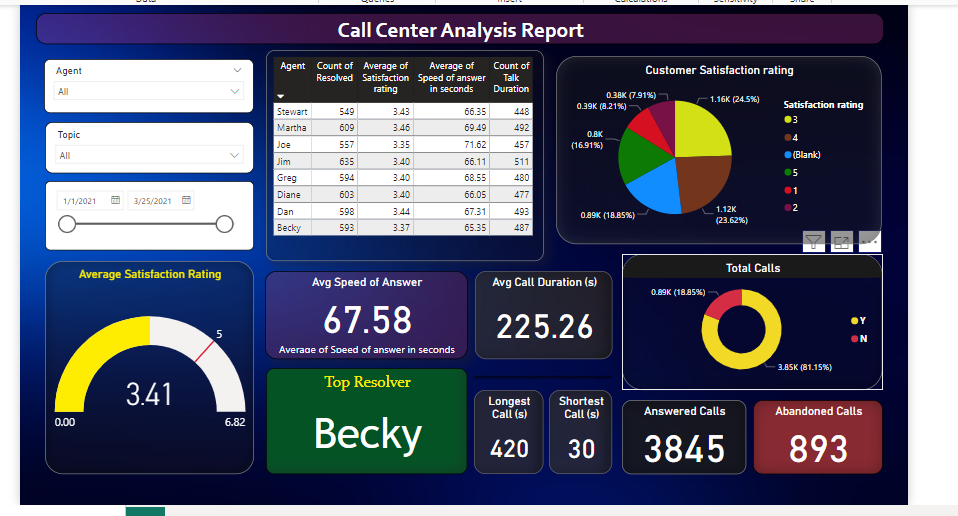

The page's visual inventory and layout, read from the dashboard file:
{"tool":"powerbi","page":{"name":"Duplicate of Page 1","canvas":[1280,720],"ordinal":0},"visuals":[{"type":"donutChart","title":"Total Calls","fields":{"Category":["Sheet1.Answered (Y/N)"],"Y":["Sheet1.Call Id"]},"box":[867.5,358.8,375.5,196.1],"z":0},{"type":"card","title":"Answered Calls","fields":{"Values":["Sheet1.Answered (Y/N)"]},"box":[866.9,568.8,178.6,106.6],"z":1000},{"type":"card","title":"Abandoned Calls","fields":{"Values":["Sheet1.Answered (Y/N)"]},"box":[1055.5,568.8,187.2,106.6],"z":2000},{"type":"card","title":"Avg Speed of Answer","fields":{"Values":["Sheet1.Speed of answer in seconds"]},"box":[352.7,382.5,291.7,126.5],"z":3000},{"type":"card","title":"Avg Call Duration (s)","fields":{"Values":["Sheet1.Total Seconds of Call"]},"box":[654.9,382.5,198,126.5],"z":4000},{"type":"pieChart","title":"Customer Satisfaction rating","fields":{"Category":["Sheet1.Satisfaction rating"],"Y":["Sheet1.Call Id"]},"box":[772.5,72.9,468.8,270.9],"z":5000},{"type":"card","title":"Longest Call (s)","fields":{"Values":["Sheet1.Total Seconds of Call"]},"box":[654.3,554.3,100,121.4],"z":6000},{"type":"tableEx","fields":{"Values":["Sheet1.Agent","Sheet1.Resolved","Sheet1.Satisfaction rating","Sheet1.Speed of answer in seconds","Sheet1.AvgTalkDuration"]},"box":[354.2,65.5,400.4,303.6],"z":7000},{"type":"textbox","title":"Call Center Analysis Report","box":[23,11.5,1221.1,44.6],"z":8000},{"type":"slicer","fields":{"Values":["Sheet1.Agent"]},"box":[35.1,77.7,301.5,77.7],"z":10000},{"type":"slicer","fields":{"Values":["Sheet1.Topic"]},"box":[35.7,168.2,300.7,74.4],"z":11000},{"type":"slicer","fields":{"Values":["Sheet1.Date"]},"box":[35.7,253,300.7,99.7],"z":12000},{"type":"gauge","title":"Average Satisfaction Rating","fields":{"Y":["Sheet1.Satisfaction rating"],"TargetValue":["Sum(Sheet1.Satisfaction rating)1"]},"box":[35.7,369.1,300.7,306.6],"z":13000},{"type":"card","title":"Top Resolver","fields":{"Values":["Sheet1.Agent"]},"box":[354.2,522.4,290.2,153.3],"z":14000},{"type":"shape","box":[654.3,474.3,198.6,124.3],"z":15000},{"type":"card","title":"Shortest Call (s)","fields":{"Values":["Sheet1.Total Seconds of Call"]},"box":[761.4,554.3,91.4,121.4],"z":15001}]}

Visuals, with their boxes on the page's 1280x720 design canvas (x1, y1, x2, y2). These are canvas units, not pixel positions in the 958x516 screenshot, which may show the page scaled, cropped or inside an application window:
"Total Calls" donutChart: Rect(868, 359, 1243, 555)
"Answered Calls" card: Rect(867, 569, 1046, 675)
"Abandoned Calls" card: Rect(1056, 569, 1243, 675)
"Avg Speed of Answer" card: Rect(353, 382, 644, 509)
"Avg Call Duration (s)" card: Rect(655, 382, 853, 509)
"Customer Satisfaction rating" pieChart: Rect(772, 73, 1241, 344)
"Longest Call (s)" card: Rect(654, 554, 754, 676)
tableEx - Sheet1.Agent x Sheet1.Resolved: Rect(354, 66, 755, 369)
"Call Center Analysis Report" textbox: Rect(23, 12, 1244, 56)
slicer - Sheet1.Agent: Rect(35, 78, 337, 155)
slicer - Sheet1.Topic: Rect(36, 168, 336, 243)
slicer - Sheet1.Date: Rect(36, 253, 336, 353)
"Average Satisfaction Rating" gauge: Rect(36, 369, 336, 676)
"Top Resolver" card: Rect(354, 522, 644, 676)
shape: Rect(654, 474, 853, 599)
"Shortest Call (s)" card: Rect(761, 554, 853, 676)
